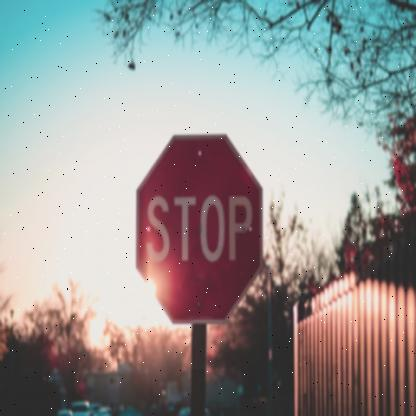Pedestrian Crossing: (144, 190, 258, 272)
